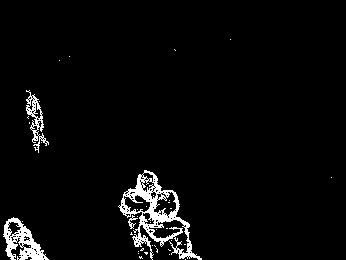person: (144, 186, 201, 260), (120, 168, 161, 256), (25, 89, 50, 152)
